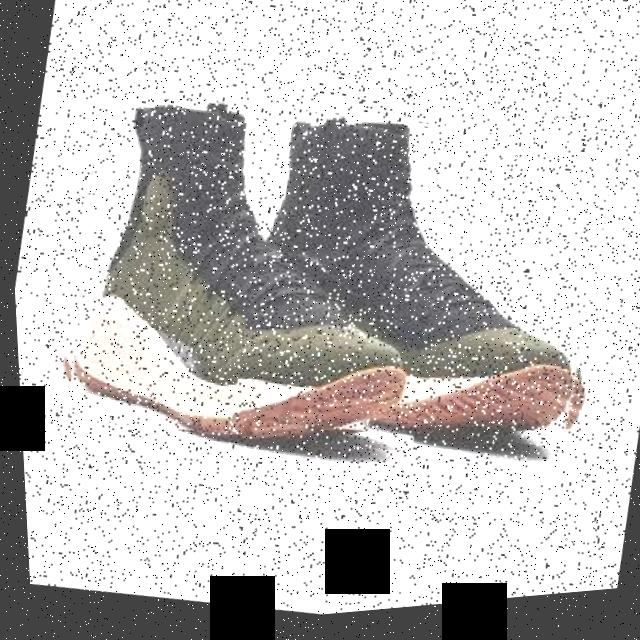shoe: (36, 67, 468, 487), (214, 92, 631, 491)
